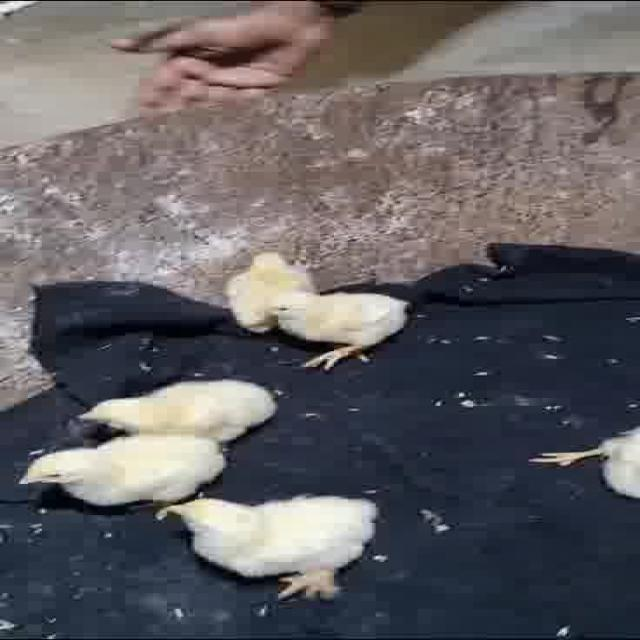poussin: (151, 486, 393, 614), (11, 435, 229, 510), (72, 379, 280, 445), (265, 290, 418, 369), (524, 419, 640, 510), (214, 248, 308, 332)
